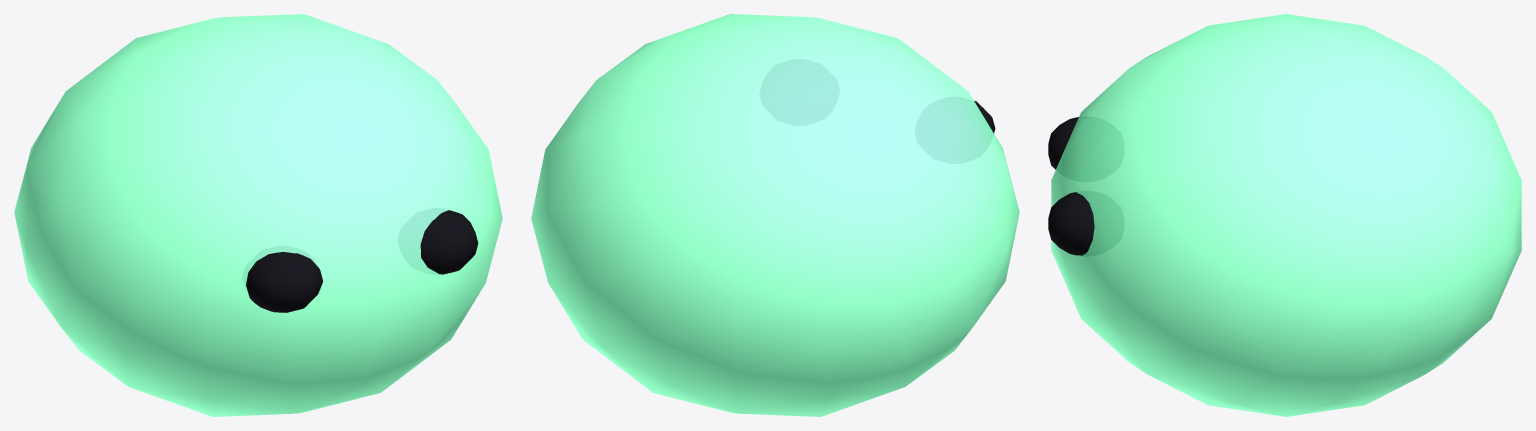
Rendered from lab_slime.glb.
3 renders of one model, left to right at view 1: azimuth 30°, elevation 25°; view 2: azimuth 150°, elevation 25°; view 3: azimuth 270°, elevation 25°, orthographic.
Parts seen in each view (by area): view 1: core; view 2: core; view 3: core.
Boxes of the visible parts, <box> form: core: <box>14,14,502,416</box>; core: <box>531,14,1019,416</box>; core: <box>1048,14,1521,416</box>.
Bounding box in the file's own units: 1.18 × 0.9403 × 1.18.
